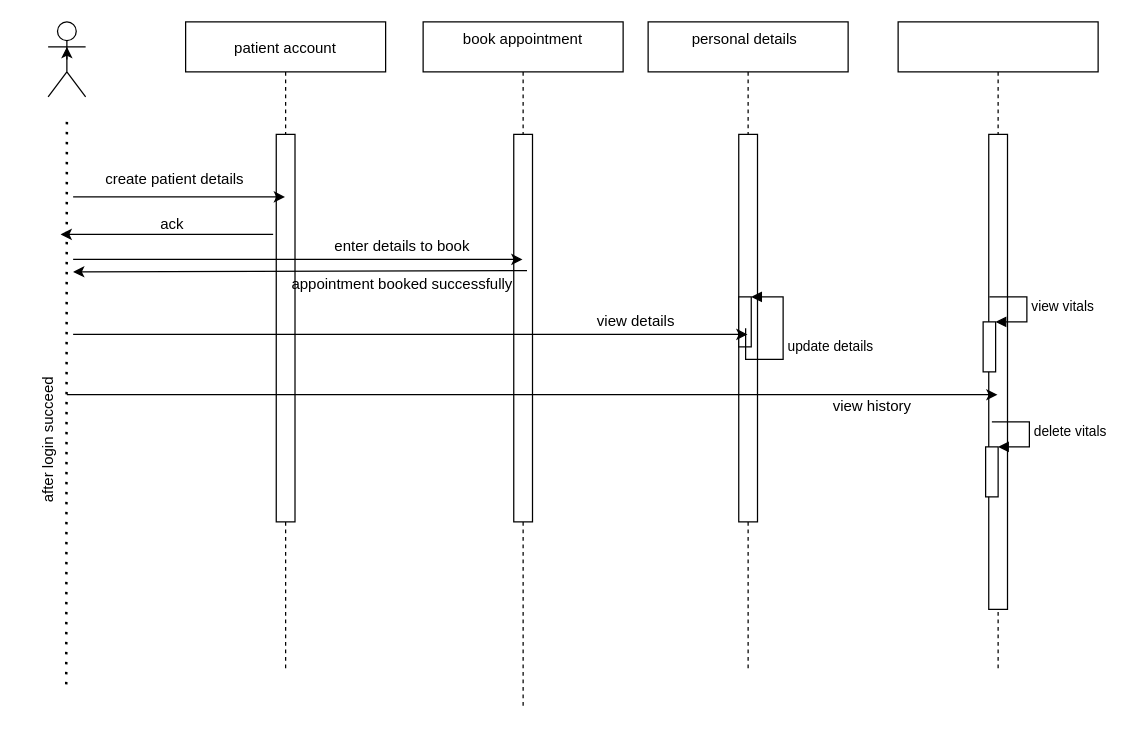
Image size: 1128x731. Some labels were removed from this diagram. The shapes that lost their labels are listed below. From the top down, each one's box as (x1, y1, x2, y2) in pixels, then its label:
(47, 21, 86, 97): patient admin
(897, 21, 1098, 672): encounter history
